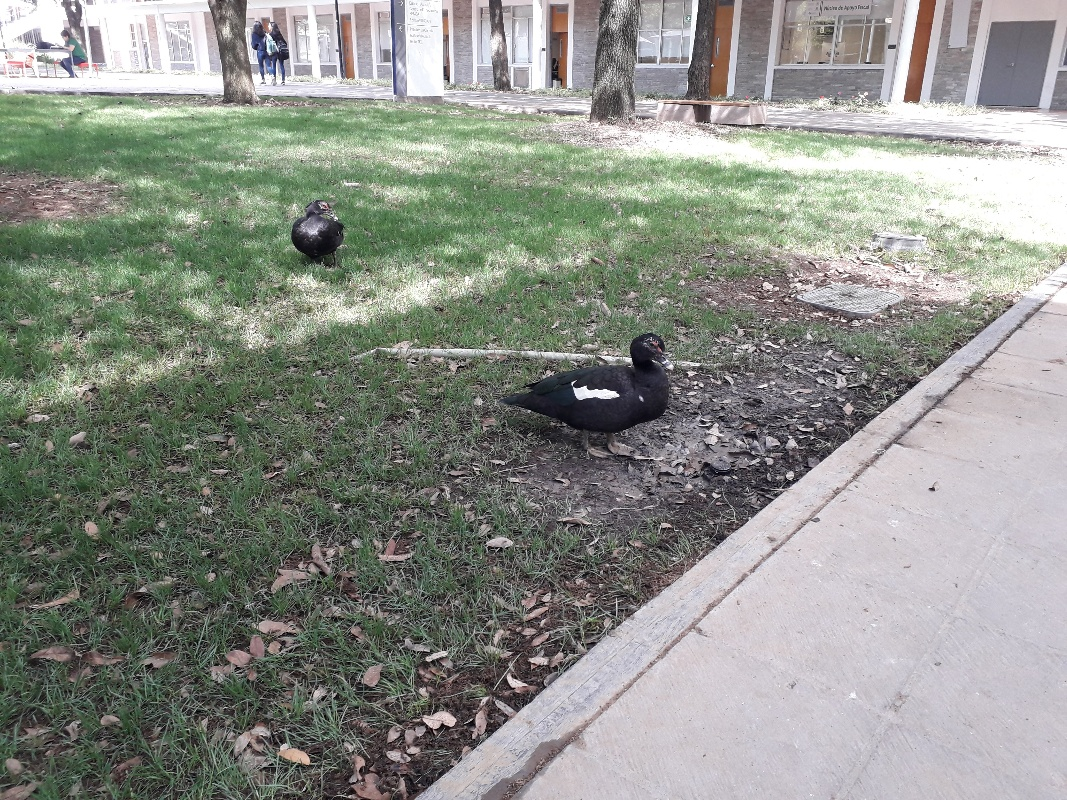pato: (501, 331, 679, 437), (286, 191, 346, 268)
